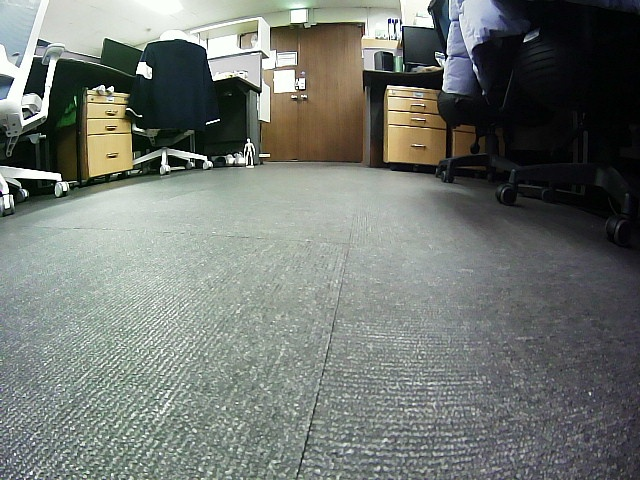person: (243, 137, 255, 166)
